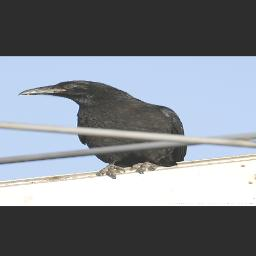Crow: (16, 80, 191, 179)
